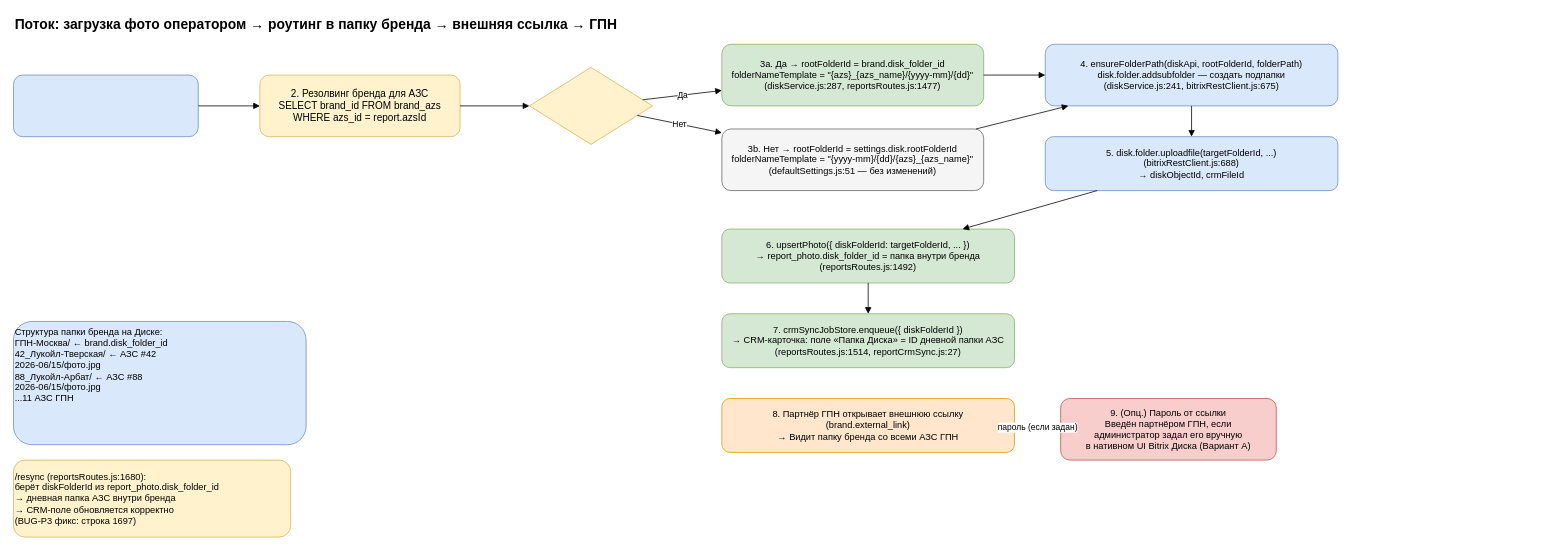
This 1567x551 diagram has some shape labels left out. The centre of each missing label's shape, as x and y in pixels:
1. Оператор загружает фото (POST /:id/photo) reportsRoutes.js:1477: the point at 105,105
АЗС в бренде?: the point at 591,105
